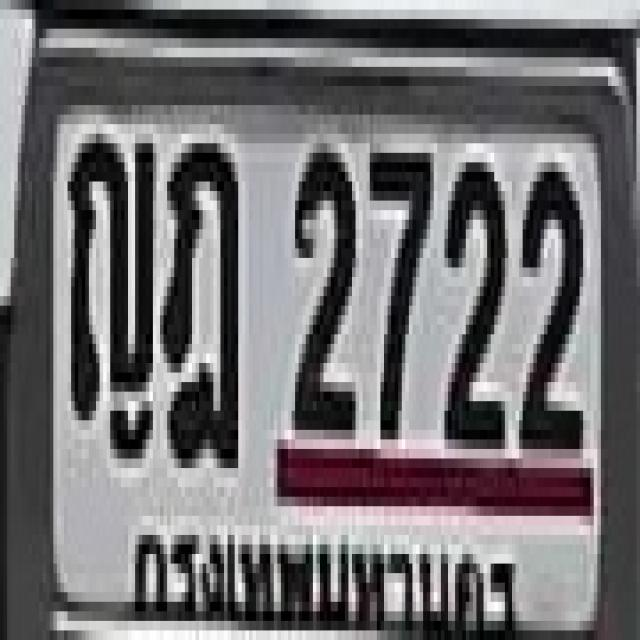2: (284, 139, 352, 425), (516, 153, 580, 449), (441, 148, 501, 435)
7: (366, 143, 430, 430)
A13: (66, 120, 151, 416)
A14: (160, 134, 235, 458)
BKK: (126, 524, 523, 640)
